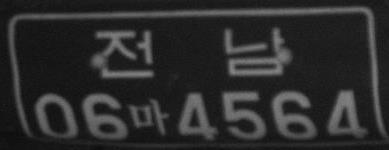0: (33, 92, 79, 139)
4: (325, 89, 368, 140), (176, 91, 218, 142)
5: (221, 89, 267, 140)
6: (271, 89, 317, 140), (81, 92, 128, 141)
마: (129, 96, 169, 136)
전남_D: (94, 25, 285, 79)
